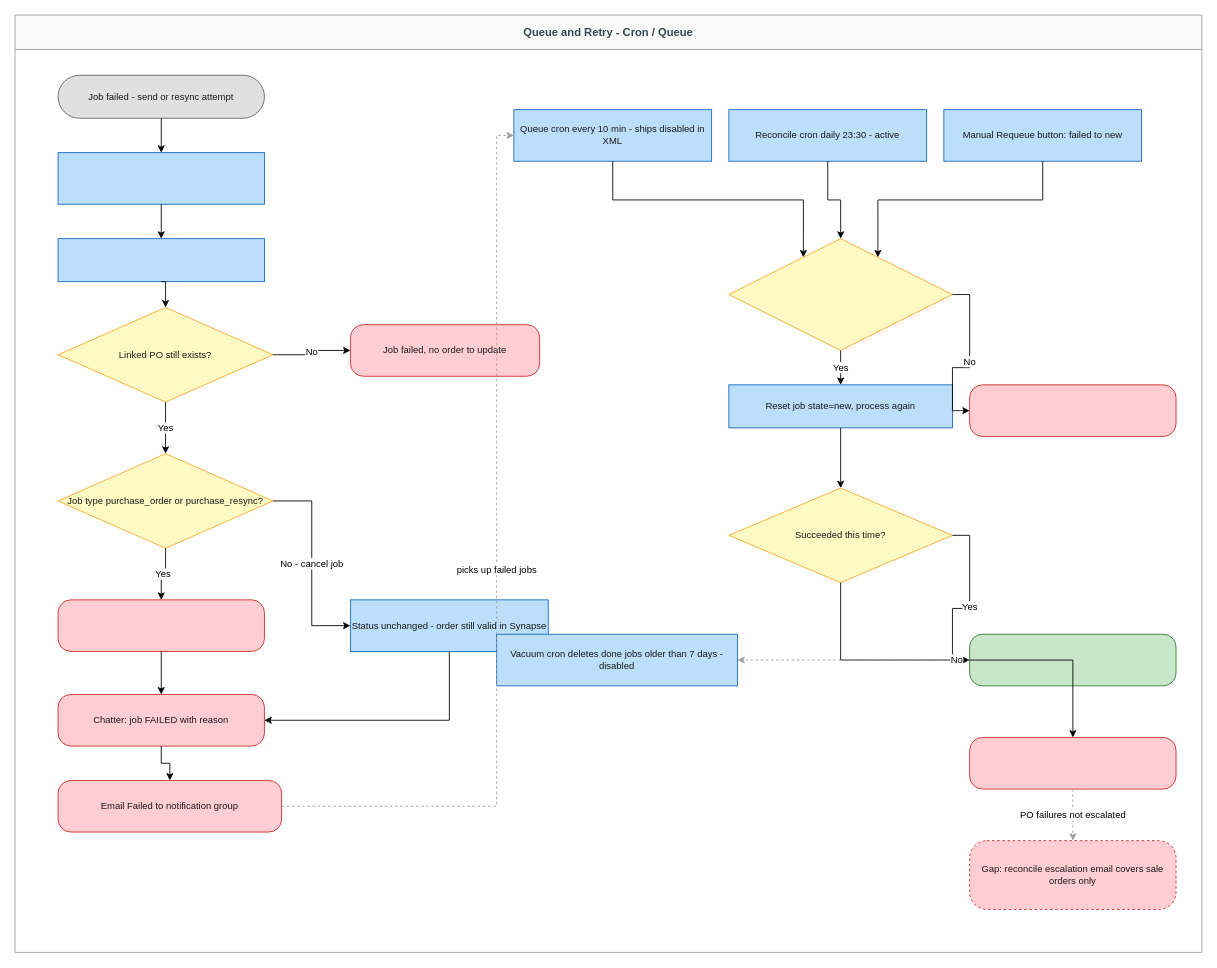
The diagram is 1217 pixels wide and 968 high, and some of its shapes have lost their labels. The shapes that lost their labels are listed below. From the top down, each one's centre as x and y in pixels, then its label:
the point at 160,178: _set_failed: rollback, write failed + message, commit
the point at 160,260: synapse.log entry state=failed
the point at 840,294: Retryable? PO to_send=True and state purchase or done
the point at 1072,410: Left failed - PO unflagged, cancelled or locked
the point at 160,625: PO synapse_status=failed, to_send stays True
the point at 1072,659: Job done - PO sent, status sent
the point at 1072,763: Still failed - manual fix needed
